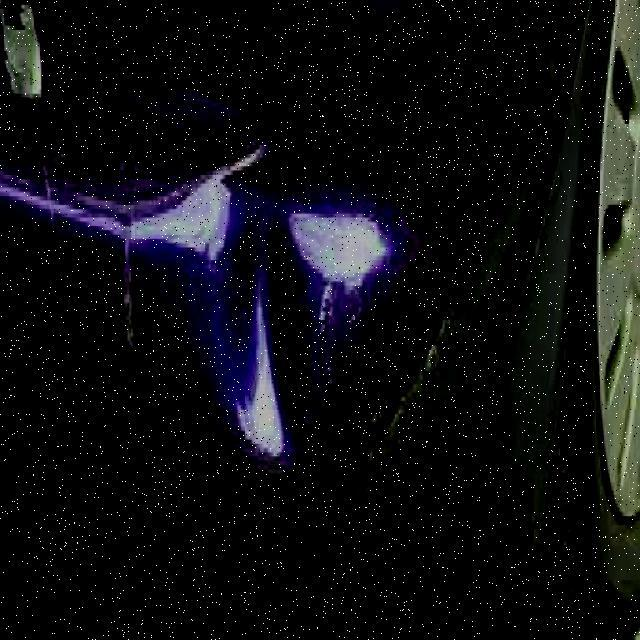car damage: (102, 156, 480, 492)
